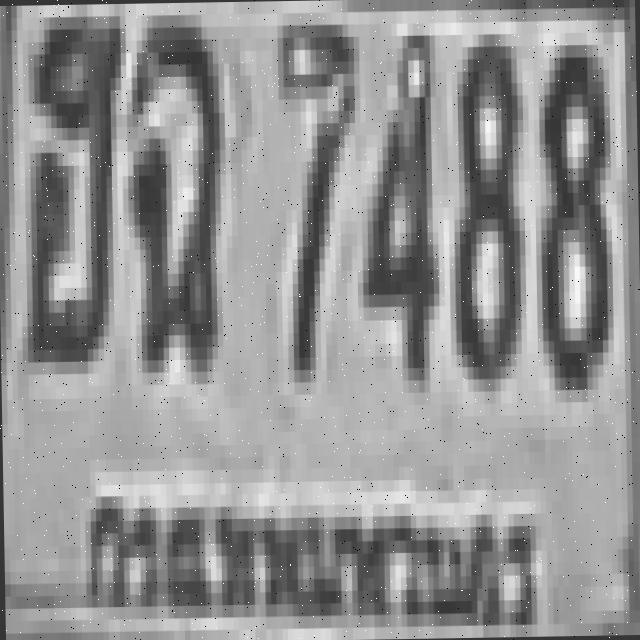18ChorChing: (125, 8, 223, 366)
4: (353, 22, 435, 368)
53HorNokHook: (16, 4, 125, 362)
7: (271, 0, 359, 369)
8: (445, 27, 522, 373), (532, 31, 608, 378)
Bangkok: (76, 448, 551, 640)
